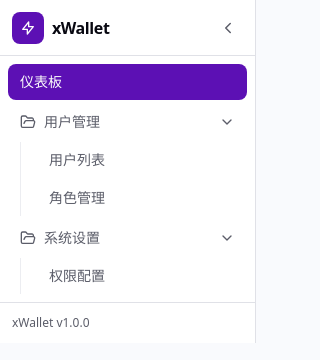
Sidebar › 侧边栏整体折叠 › 侧边栏整体折叠时应该隐藏所有文本
Click the button named "收起侧边栏": (228, 28) x1=213 y1=12 x2=243 y2=42
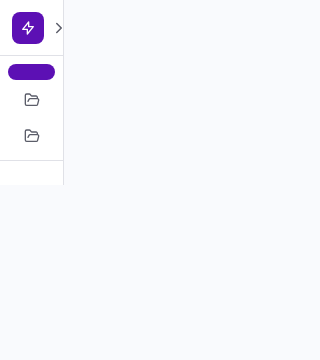
Result: the text "仪表板" is gone
Result: the text "用户管理" is gone
